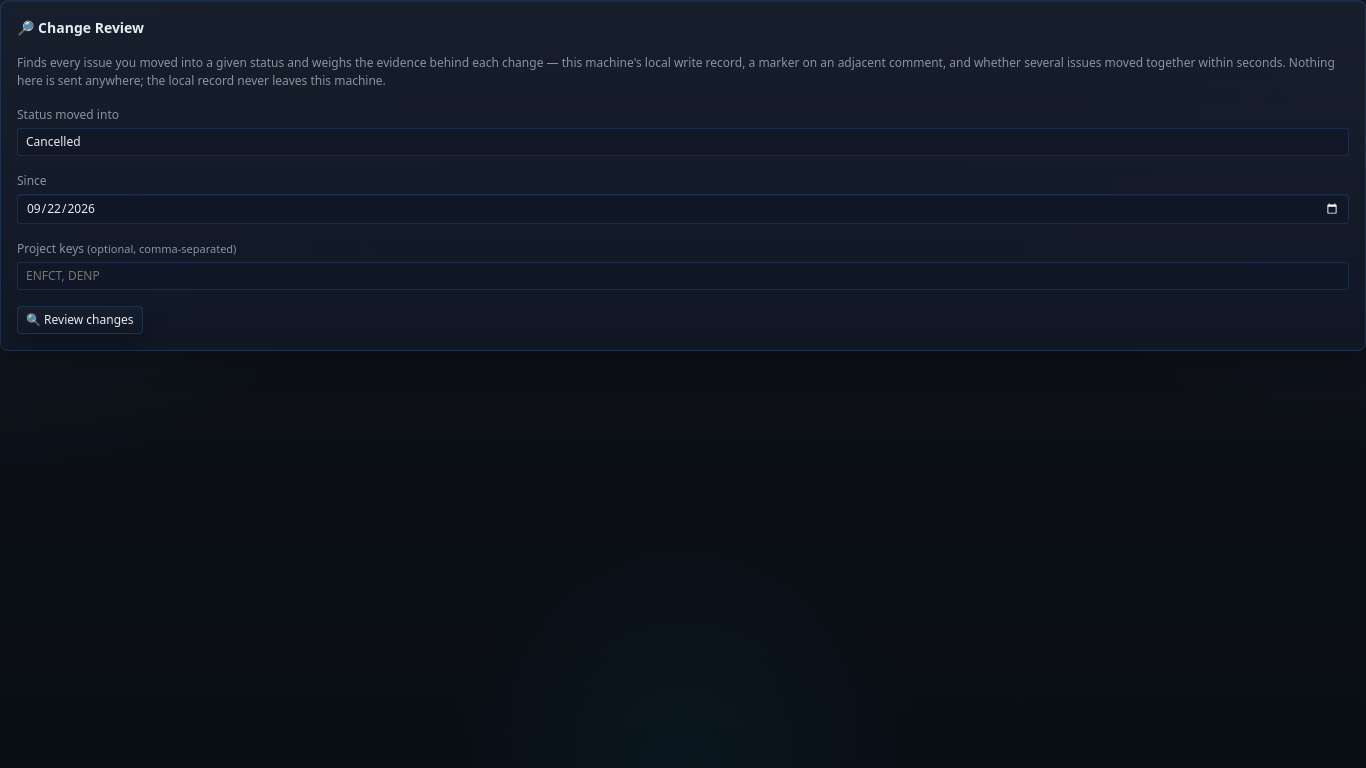
Test: ChangeAuditPanel › renders each verdict with its evidence and the fields that moved alongside
The image size is (1366, 768).
Click the button "🔍 Review changes": click(80, 320) [17,306,143,334]
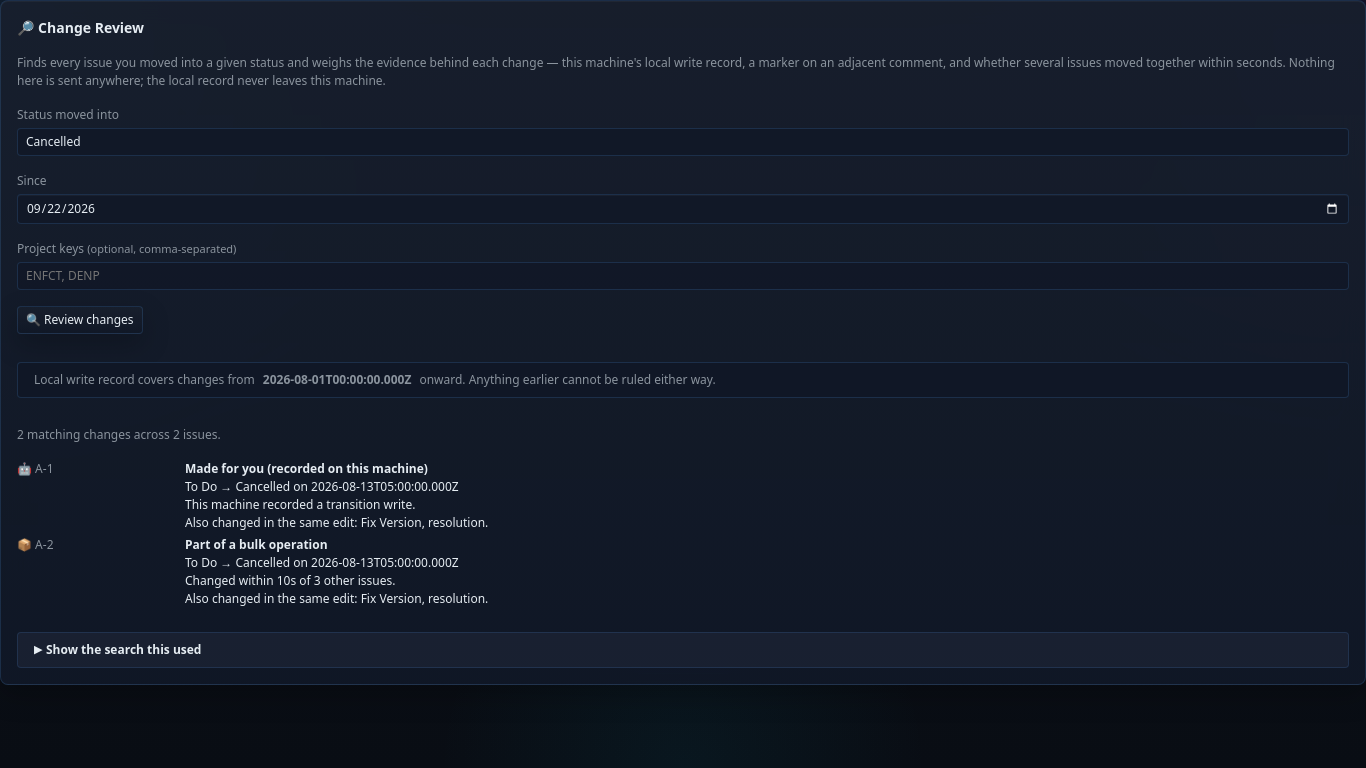
Result: the text "Made for you (recorded on this machine)" is shown at [185,460,428,477]
Result: the text "Part of a bulk operation" is shown at [185,536,328,553]
Result: the text "This machine recorded a transition write." is shown at [185,496,415,513]
